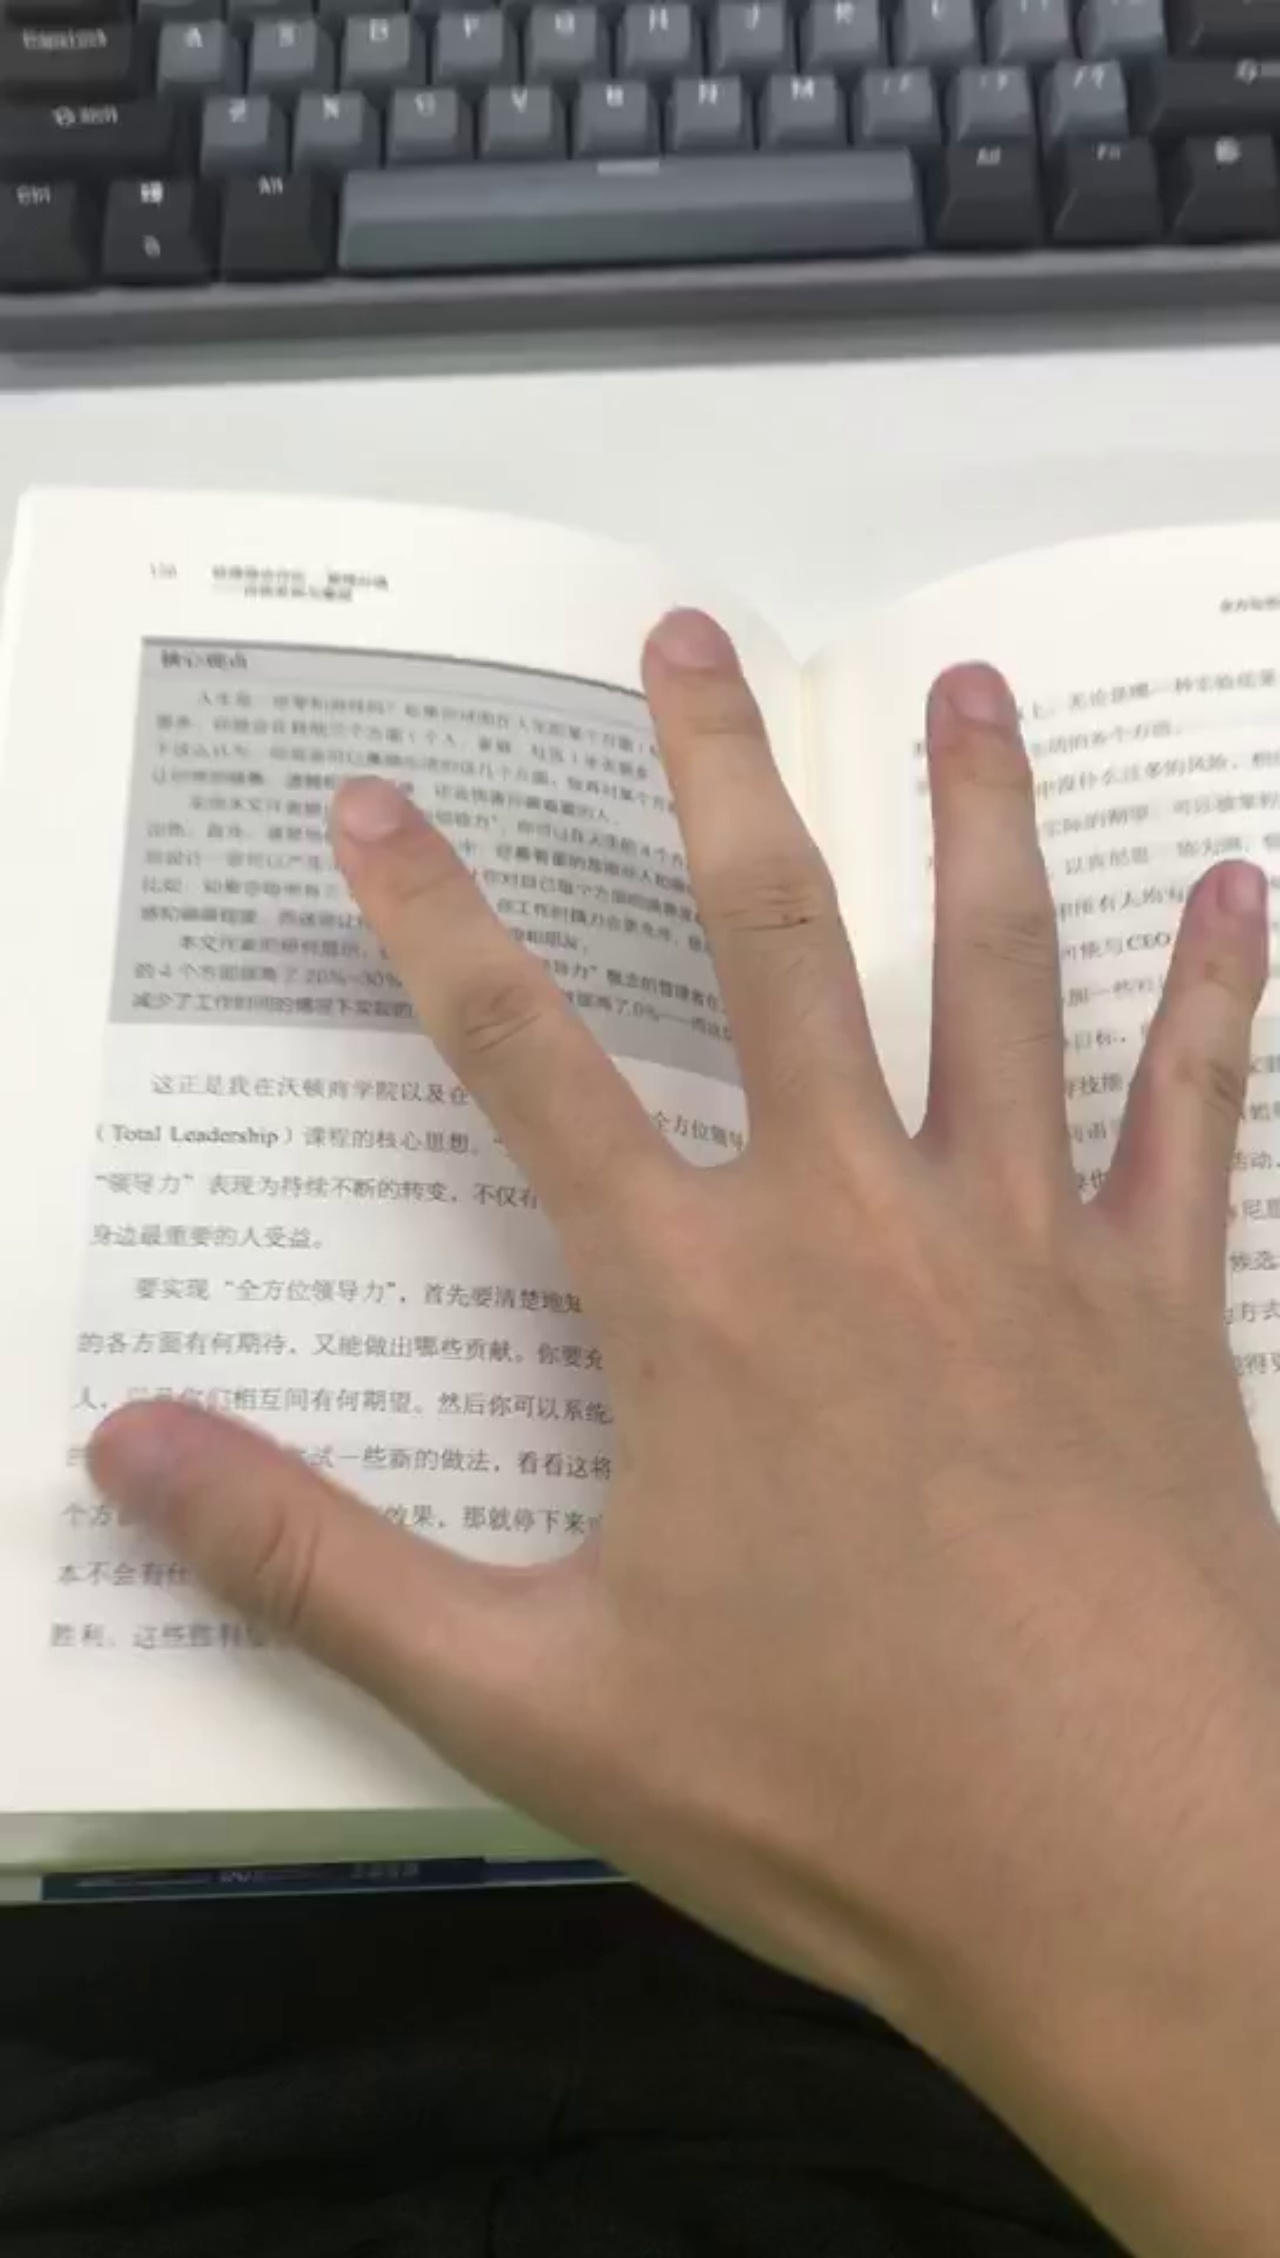finger0: (85, 1417, 185, 1529)
finger2: (329, 771, 414, 844)
finger4: (649, 605, 735, 675)
finger6: (939, 661, 1019, 729)
finger8: (1216, 861, 1271, 924)
